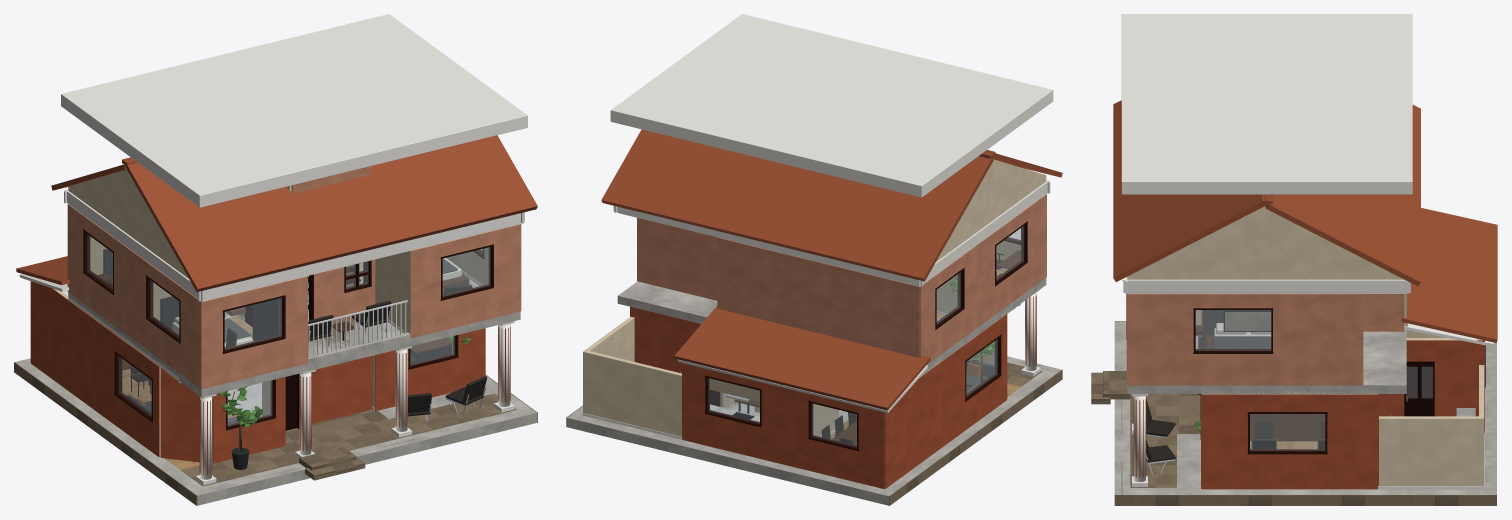
File: apartment.glb
3 renders of one model, left to right at view 1: azimuth 30°, elevation 25°; view 2: azimuth 150°, elevation 25°; view 3: azimuth 270°, elevation 25°, orthographic. The views are drawn at different scales.
Parts seen in each view (by area): view 1: Cornice, Roof_S, Clad_W_L0_29, Slab_0, Gable_W, Floor_porch, BandS, Clad_S_L0_21, Clad_S_L0_28, Slab_1, Clad_W_L1_26, Clad_S_L1_08 (+52 smaller); view 2: Cornice, Roof_N, Clad_N_L1_00, Roof_leanto, Clad_W_L0_29, Wall_N_L0_09, Clad_N_L1_02, Slab_0, Clad_N_L0_01, Gable_W, Clad_N_L0_38, Clad_W_L1_26 (+28 smaller); view 3: Cornice, Gable_E, Roof_leanto, Roof_N, Roof_S, Clad_E_L1_03, Wall_E_L0_10, Clad_E_L1_04, Slab_1, Slab1_1, Clad_E_L0_11, Clad_E_L0_12 (+27 smaller).
Part boxes in pixels (x1,y1,x2,y2): Cornice: [61, 14, 527, 207]; Roof_S: [124, 135, 537, 291]; Clad_W_L0_29: [30, 281, 115, 425]; Slab_0: [15, 358, 310, 505]; Gable_W: [68, 169, 188, 278]; Floor_porch: [284, 393, 516, 454]; BandS: [198, 212, 524, 301]; Clad_S_L0_21: [311, 356, 372, 424]; Clad_S_L0_28: [160, 367, 200, 462]; Slab_1: [378, 375, 537, 451]; Clad_W_L1_26: [113, 237, 147, 349]; Clad_S_L1_08: [410, 243, 441, 338]; Cornice: [610, 14, 1053, 197]; Roof_N: [601, 129, 993, 281]; Clad_N_L1_00: [717, 237, 919, 357]; Roof_leanto: [674, 306, 930, 410]; Clad_W_L0_29: [885, 344, 965, 488]; Wall_N_L0_09: [583, 351, 681, 436]; Clad_N_L1_02: [637, 218, 717, 300]; Slab_0: [750, 356, 1061, 505]; Clad_N_L0_01: [760, 382, 809, 470]; Gable_W: [936, 159, 1046, 261]; Clad_N_L0_38: [630, 307, 700, 373]; Clad_W_L1_26: [963, 232, 995, 337]; Cornice: [1121, 14, 1412, 194]; Gable_E: [1127, 206, 1403, 279]; Roof_leanto: [1401, 208, 1497, 342]; Roof_N: [1265, 105, 1420, 286]; Roof_S: [1113, 100, 1268, 282]; Clad_E_L1_03: [1271, 294, 1362, 385]; Wall_E_L0_10: [1379, 416, 1483, 486]; Clad_E_L1_04: [1127, 294, 1194, 385]; Slab_1: [1114, 434, 1496, 494]; Slab1_1: [1127, 331, 1406, 393]; Clad_E_L0_11: [1326, 394, 1377, 489]; Clad_E_L0_12: [1202, 394, 1249, 489].
Bounding box in the file's own units: 10.64 × 9.58 × 10.47.
Materials: 42 (23 with a texture image).
